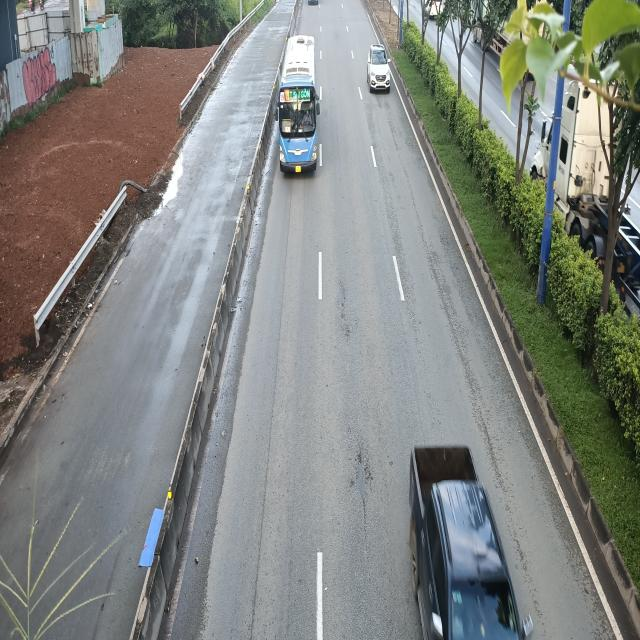car: (405, 446, 530, 640), (368, 45, 393, 92)
coach: (273, 33, 322, 173)
